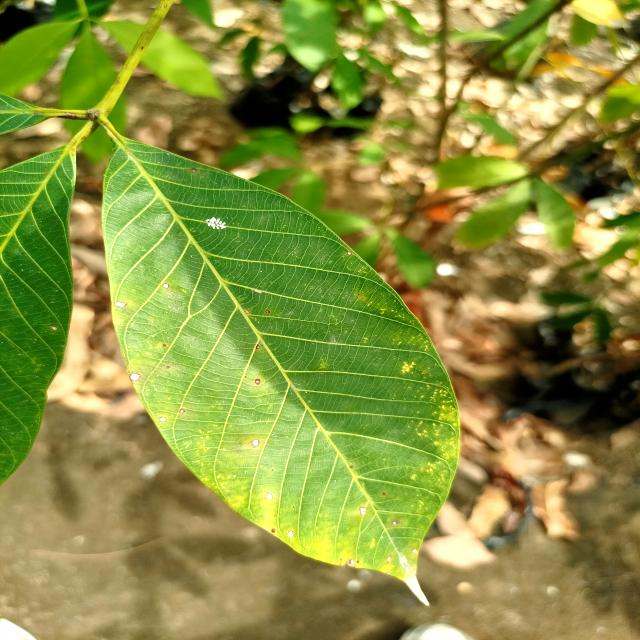Colletotrichum: (116, 301, 128, 308), (130, 373, 140, 380), (252, 439, 259, 446), (288, 530, 294, 538), (266, 493, 272, 499), (160, 417, 167, 422), (179, 409, 185, 414), (163, 283, 169, 288), (255, 379, 260, 384), (191, 168, 197, 172), (245, 310, 249, 314), (272, 528, 276, 532), (347, 252, 352, 255), (392, 521, 397, 524), (266, 310, 270, 313), (162, 344, 166, 346), (167, 366, 170, 368)
Leaf-Blight: (403, 572, 429, 606)
